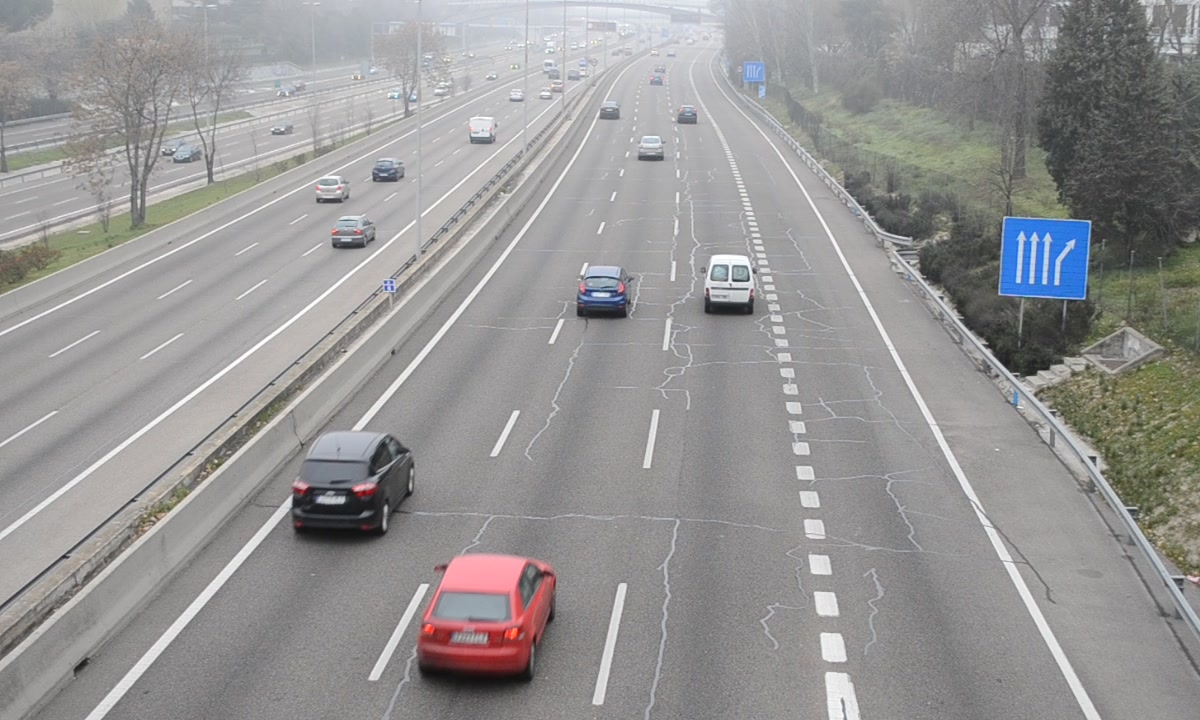car: (418, 554, 553, 677), (291, 432, 415, 533), (578, 264, 630, 317), (636, 134, 665, 159), (675, 104, 698, 126)
van: (704, 254, 754, 312)
